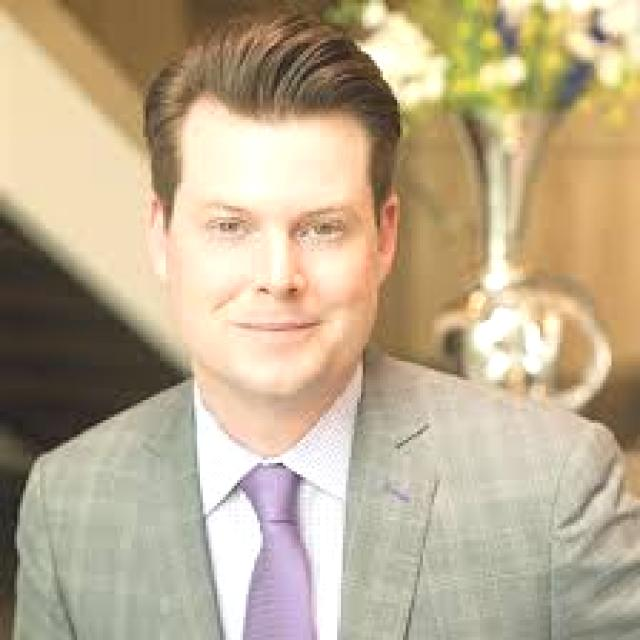normal_face: (160, 44, 421, 422)
